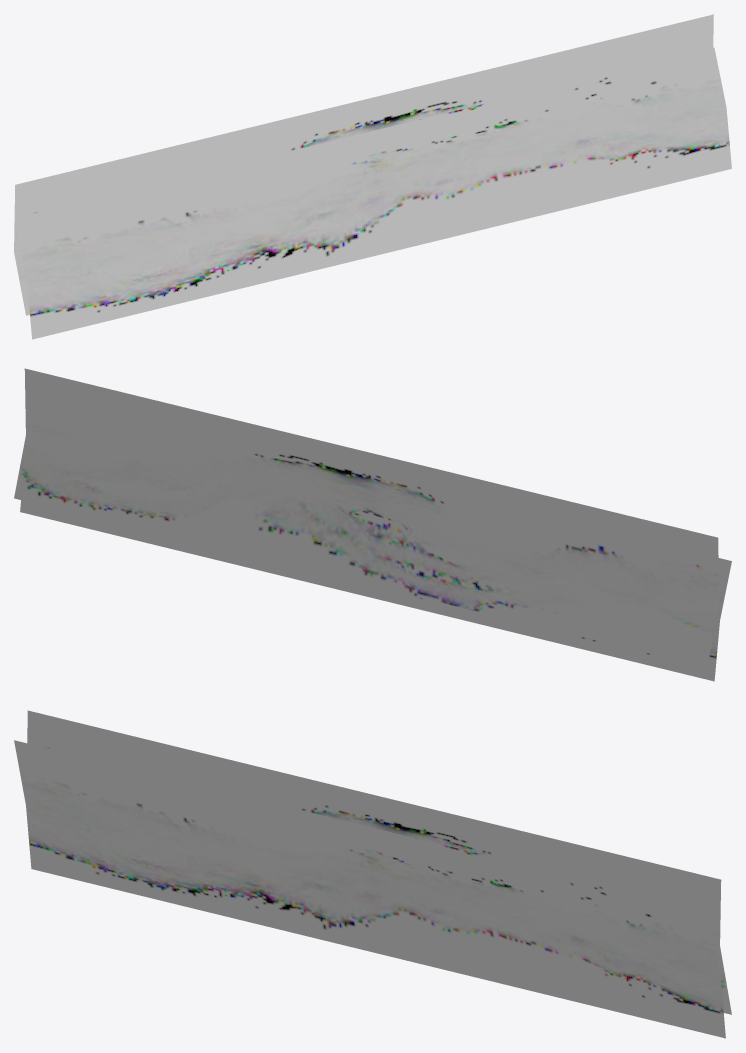
The model's file is e_Battlefield smoke_all.FBX.
The picture shows the model from 3 angles, top to bottom: view 1: azimuth 30°, elevation 25°; view 2: azimuth 150°, elevation 25°; view 3: azimuth 330°, elevation 25°; orthographic projection.
Visible parts, largest first — view 1: Plane001; view 2: Plane001; view 3: Plane001.
Boxes of the visible parts, bbox=[...] form: Plane001: bbox=[14, 14, 731, 339]; Plane001: bbox=[14, 368, 731, 681]; Plane001: bbox=[14, 710, 731, 1038].
Bounding box in the file's own units: 346 × 70.18 × 5.58.
Materials: 1 (1 with a texture image).
